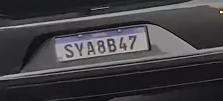Placa_mercosul_carro: (55, 25, 152, 63)
